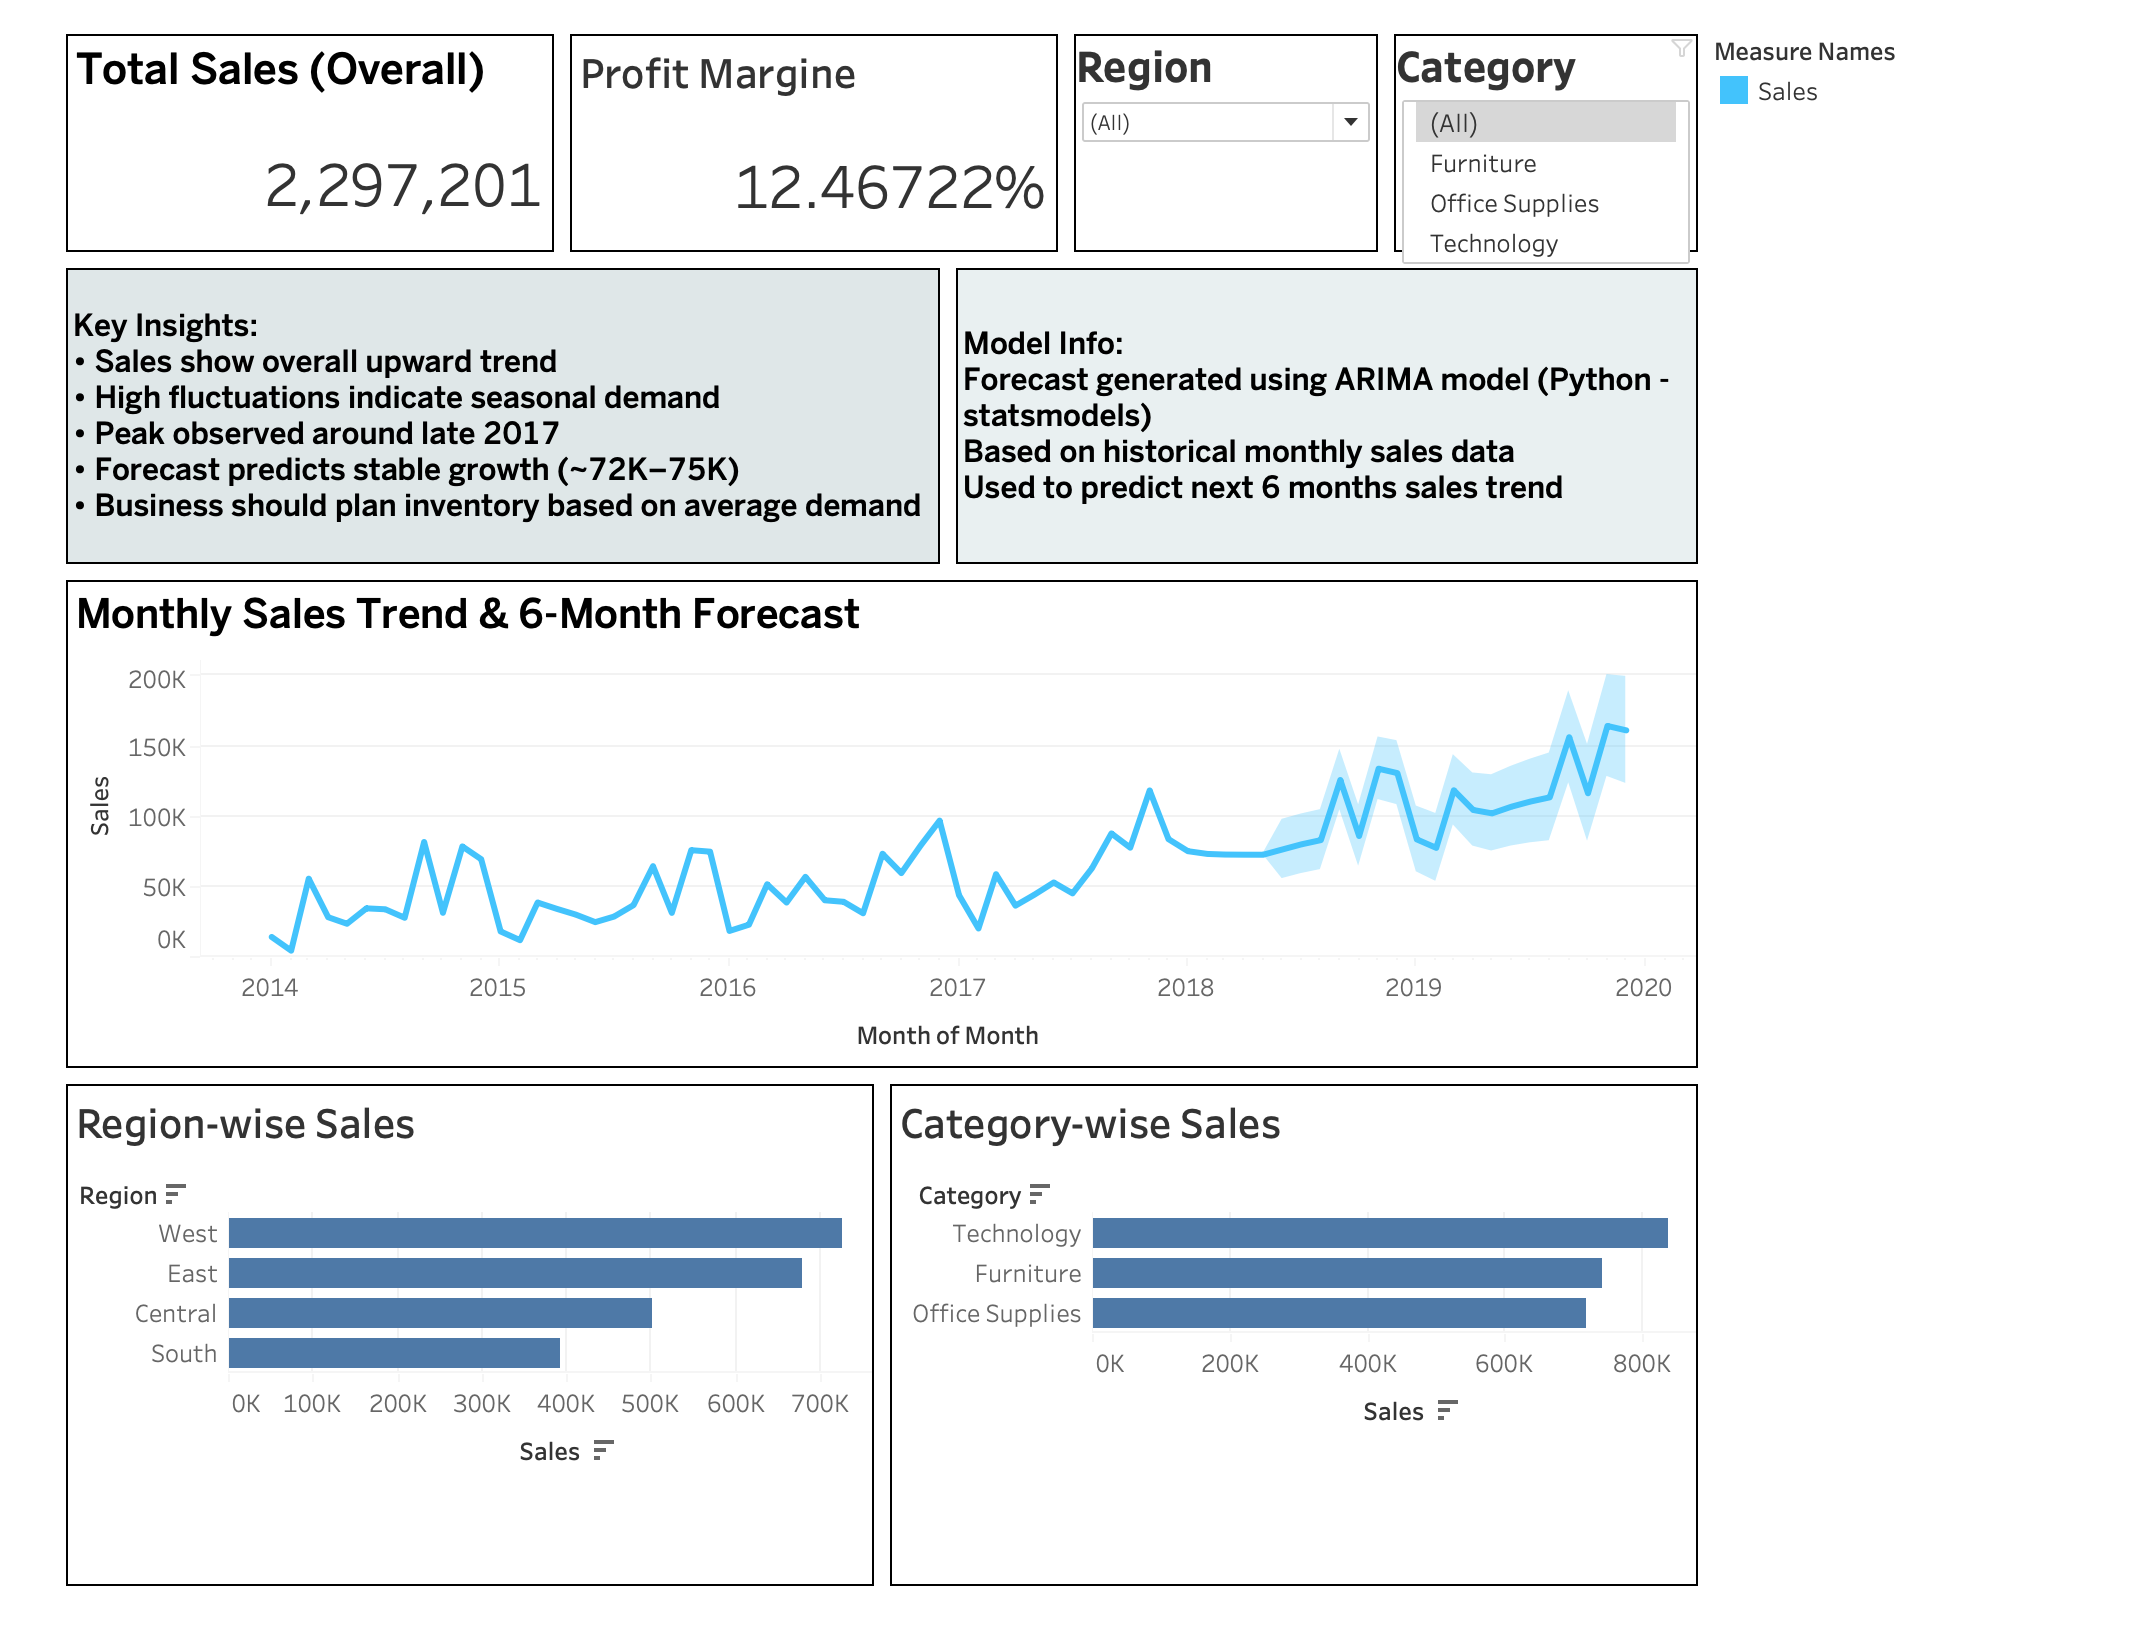

This screenshot's page, from the dashboard's own definition file:
{"tool":"tableau","page":{"name":"Dashboard 1","canvas":[1000,800],"ordinal":0},"visuals":[{"type":"worksheet","title":"Total Sales","mark":"Automatic","box":[8,8,252,117]},{"type":"worksheet","title":"Profit Margine","mark":"Automatic","box":[260,8,252,117]},{"type":"filter","title":"Category-wise Sales","param":"[federated.1a502ai1mykpgk1ame1si0mtezkg].[none:Region:nk]","box":[512,8,160,117]},{"type":"filter","title":"Category-wise Sales","param":"[federated.1a502ai1mykpgk1ame1si0mtezkg].[none:Category:nk]","box":[672,8,160,117]},{"type":"legend","title":"Monthly Sales & Forecast","param":"[federated.1mq6czb1j02w8m0zl9nbn1at79vc].[:Measure Names]","box":[832,8,160,46]},{"type":"text","box":[8,125,445,156]},{"type":"text","box":[453,125,379,156]},{"type":"worksheet","title":"Monthly Sales & Forecast","mark":"Automatic","rows":["Sales"],"cols":["Month"],"box":[8,281,824,252]},{"type":"worksheet","title":"Region-wise Sales","mark":"Automatic","rows":["Region"],"cols":["Sales"],"box":[8,533,412,259]},{"type":"worksheet","title":"Category-wise Sales","mark":"Automatic","rows":["Category"],"cols":["Sales"],"box":[420,533,412,259]}]}

Visuals, with their boxes in screenshot pixels (x1, y1, x2, y2):
"Total Sales" worksheet: (left=71, top=32, right=565, bottom=261)
"Profit Margine" worksheet: (left=565, top=32, right=1058, bottom=261)
"Category-wise Sales" filter: (left=1058, top=32, right=1371, bottom=261)
"Category-wise Sales" filter: (left=1371, top=32, right=1684, bottom=261)
"Monthly Sales & Forecast" legend: (left=1684, top=32, right=1998, bottom=122)
text: (left=71, top=261, right=942, bottom=567)
text: (left=942, top=261, right=1684, bottom=567)
"Monthly Sales & Forecast" worksheet: (left=71, top=567, right=1684, bottom=1060)
"Region-wise Sales" worksheet: (left=71, top=1060, right=878, bottom=1567)
"Category-wise Sales" worksheet: (left=878, top=1060, right=1684, bottom=1567)
